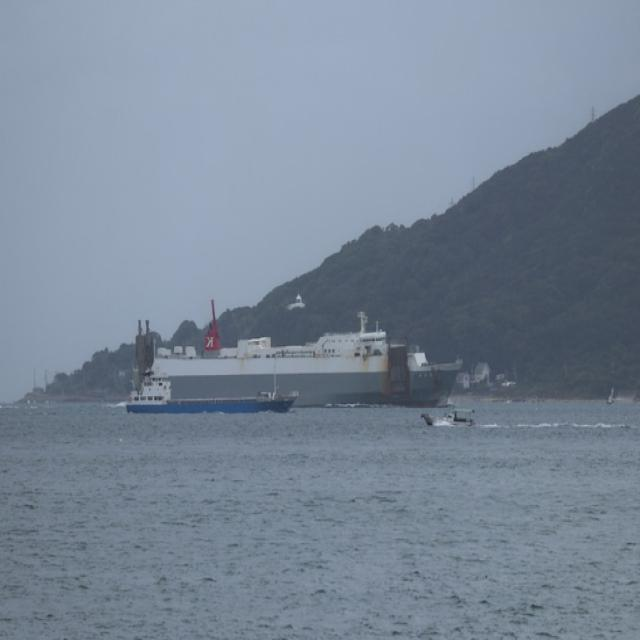passenger ship: (136, 296, 438, 395), (123, 365, 302, 407)
